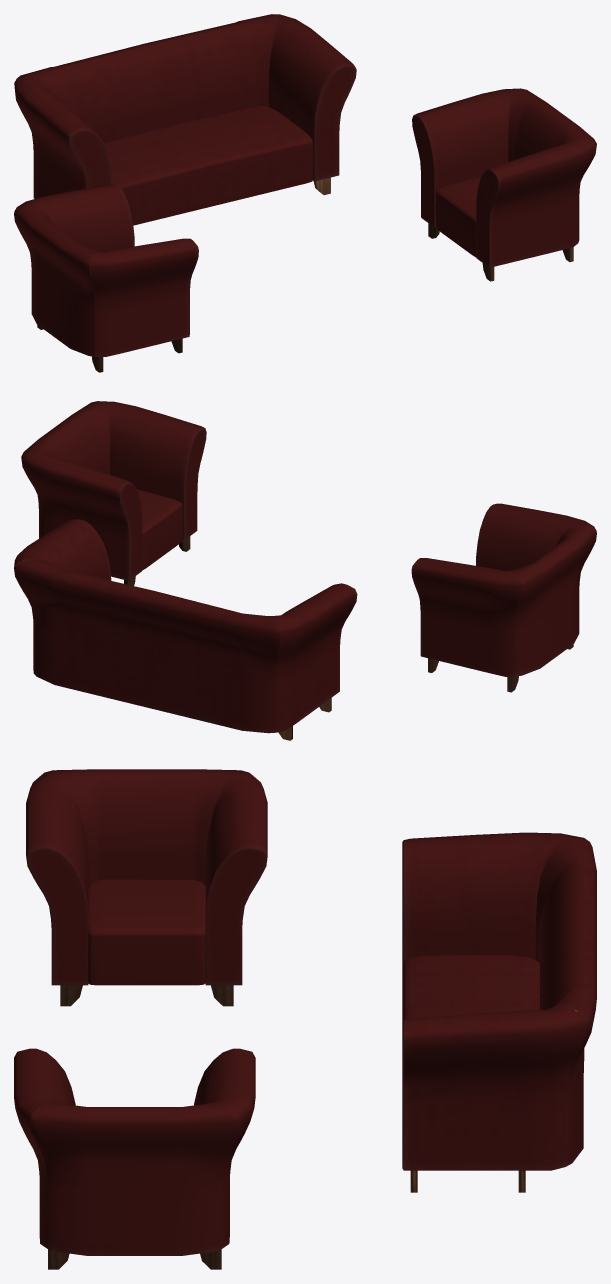
Rendered from sofa_set.glb.
The picture shows the model from 3 angles, top to bottom: view 1: azimuth 30°, elevation 25°; view 2: azimuth 150°, elevation 25°; view 3: azimuth 270°, elevation 25°; orthographic projection. The views are drawn at different scales.
Visible parts, largest first — view 1: sofa_set; view 2: sofa_set; view 3: sofa_set.
Boxes of the visible parts, x1=… form: sofa_set: x1=14, y1=14, x2=596, y2=372; sofa_set: x1=14, y1=401, x2=596, y2=740; sofa_set: x1=14, y1=769, x2=596, y2=1269.
Bounding box in the file's own units: 3.41 × 0.85 × 2.4.
2 materials, 2 textured.
